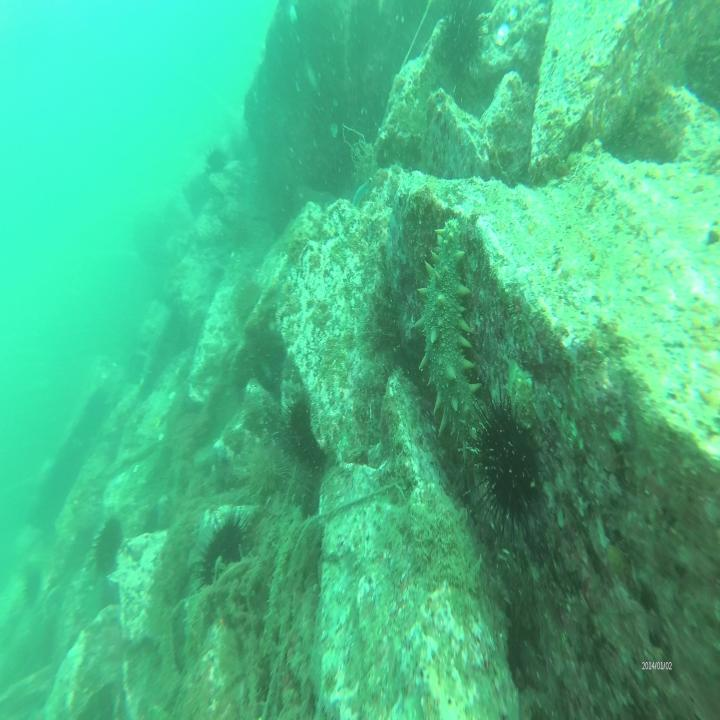echinus: (480, 400, 541, 542), (433, 4, 488, 100), (190, 519, 255, 590), (282, 391, 332, 475), (237, 430, 289, 506), (283, 451, 316, 516), (92, 518, 124, 574), (207, 142, 231, 176)
holothurian: (409, 214, 484, 468)
